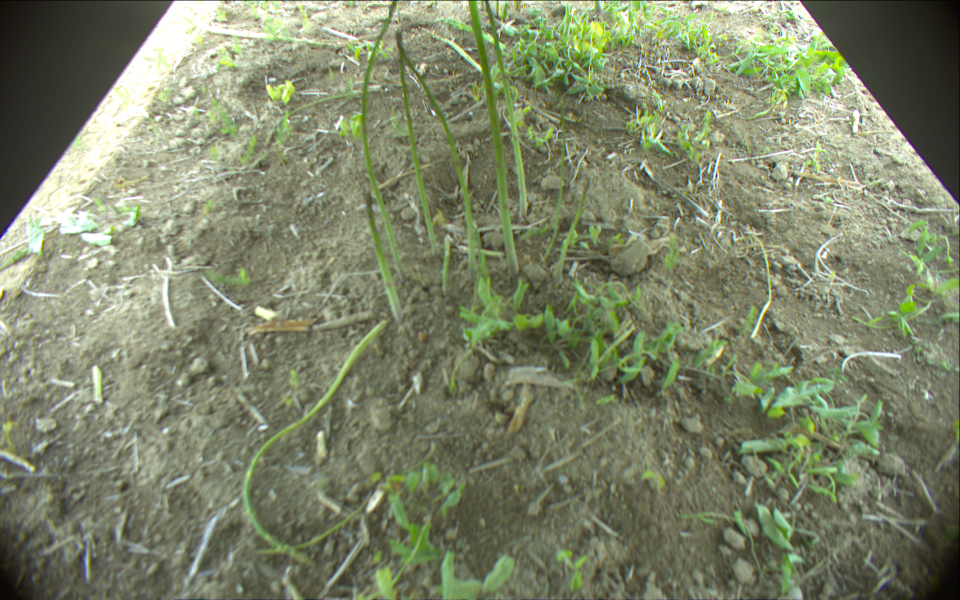aspa: (238, 318, 387, 566), (396, 38, 475, 284), (466, 1, 521, 277), (356, 1, 407, 280), (483, 1, 531, 221), (396, 27, 439, 256), (363, 188, 404, 323), (540, 83, 565, 268), (557, 180, 594, 277), (198, 24, 341, 48), (428, 30, 483, 75), (444, 17, 506, 48), (439, 239, 451, 297), (493, 1, 502, 17)
